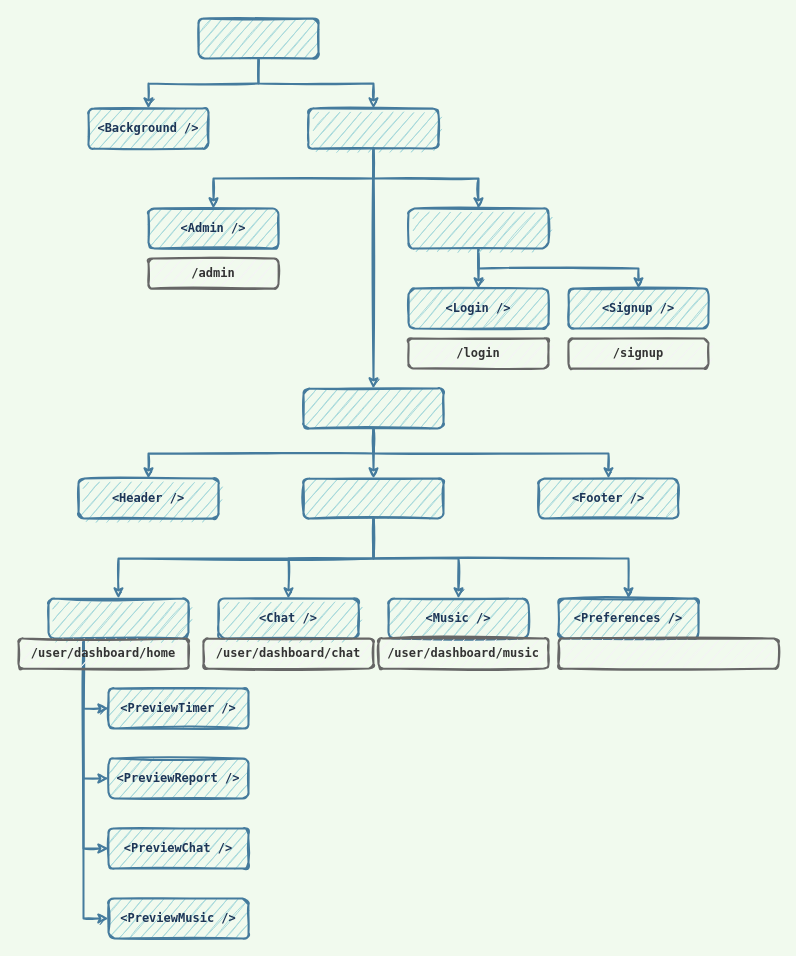
The diagram is 796 pixels wide and 956 high, and some of its shapes have lost their labels. Each missing label, with the centre of its shape:
"/user/dashboard/preferences" belongs at point (668, 653).
"<App />" belongs at point (258, 38).
"<AppContainer />" belongs at point (373, 128).
"<Dashboard />" belongs at point (373, 498).
"<Home />" belongs at point (118, 618).
"<Member />" belongs at point (478, 228).
"<User />" belongs at point (373, 408).
